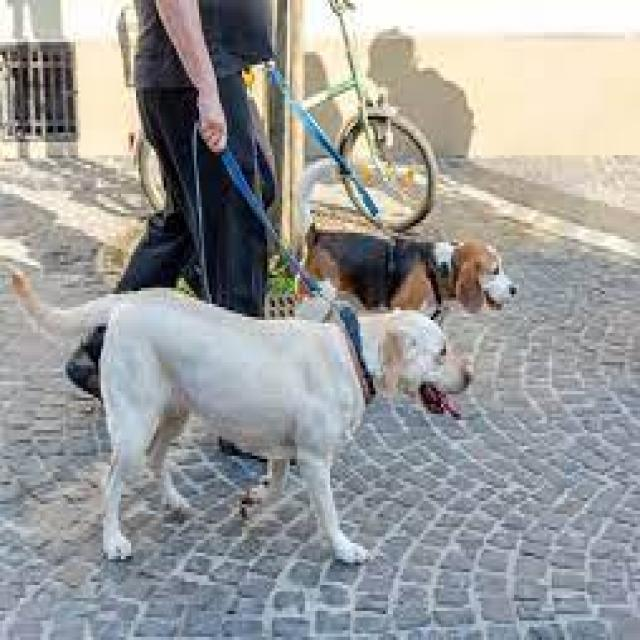Dog: (2, 266, 478, 566), (293, 154, 523, 310)
